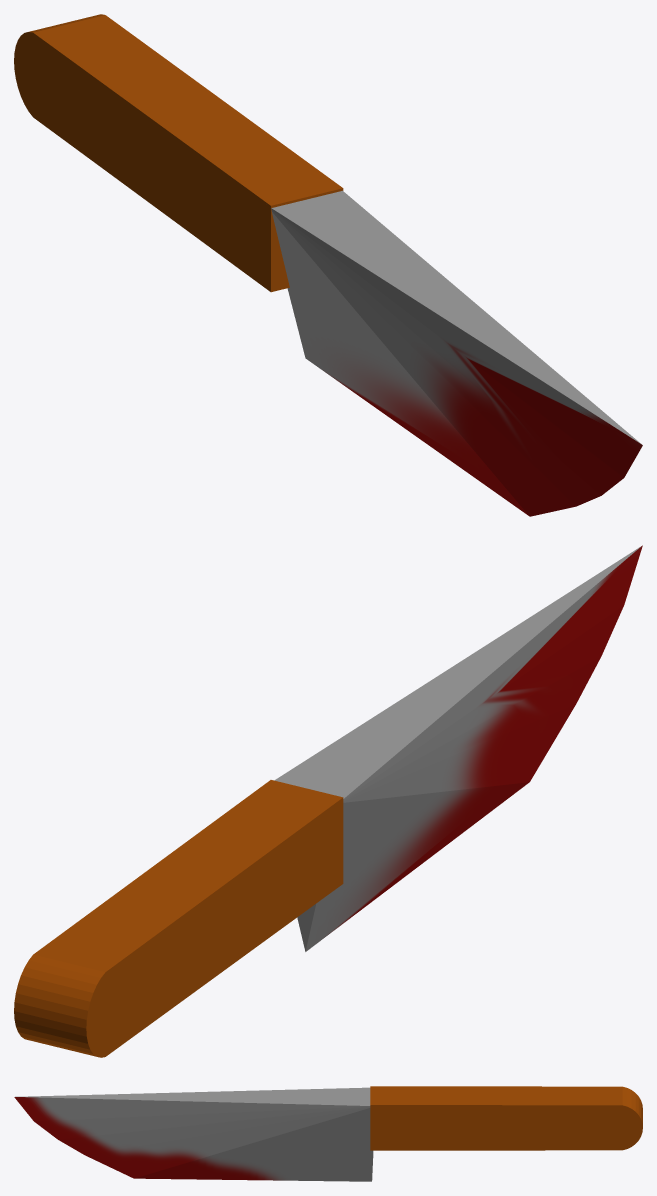
File: bloody_knife.dae
3 renders of one model, top to bottom at view 1: azimuth 30°, elevation 25°; view 2: azimuth 150°, elevation 25°; view 3: azimuth 270°, elevation 25°, orthographic. The views are drawn at different scales.
Visible parts, largest first — view 1: Cube; view 2: Cube; view 3: Cube.
Boxes of the visible parts, bbox=[...] form: Cube: bbox=[14, 14, 642, 516]; Cube: bbox=[14, 545, 642, 1057]; Cube: bbox=[14, 1086, 642, 1181].
Size of the model in its own units: 0.4548 by 6.45 by 0.9752.
2 materials, 1 textured.
